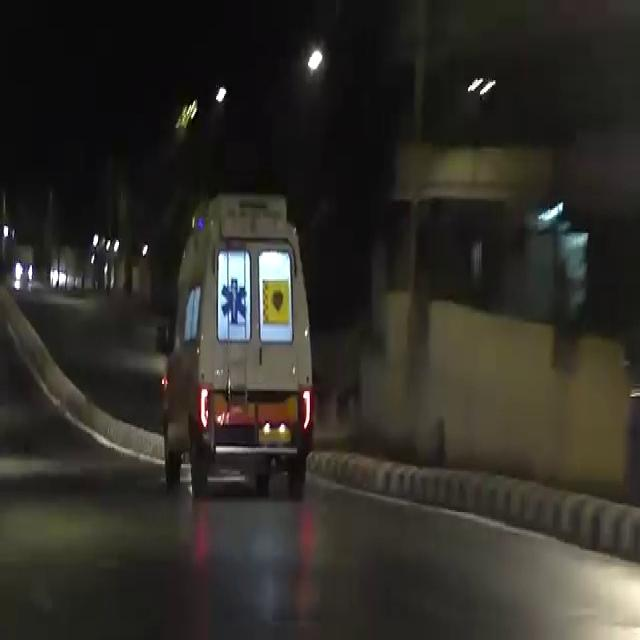ambulance: (164, 184, 330, 447)
